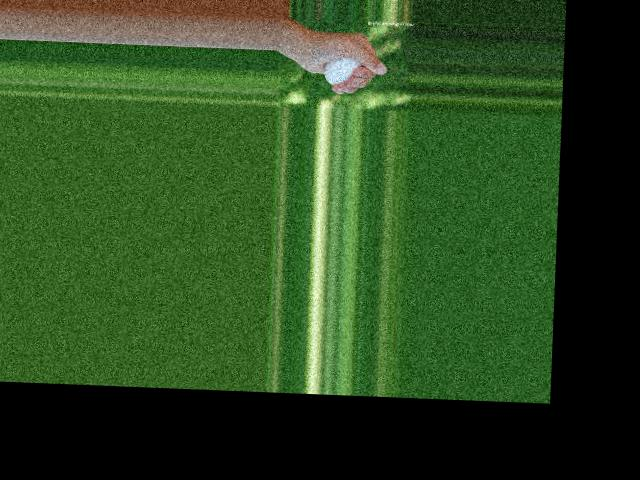egg: (324, 56, 362, 86)
